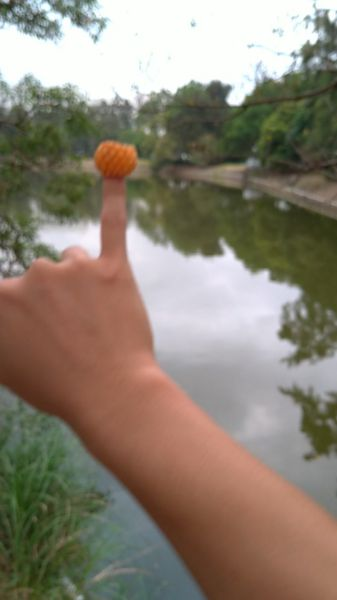eggs: (94, 139, 139, 179)
